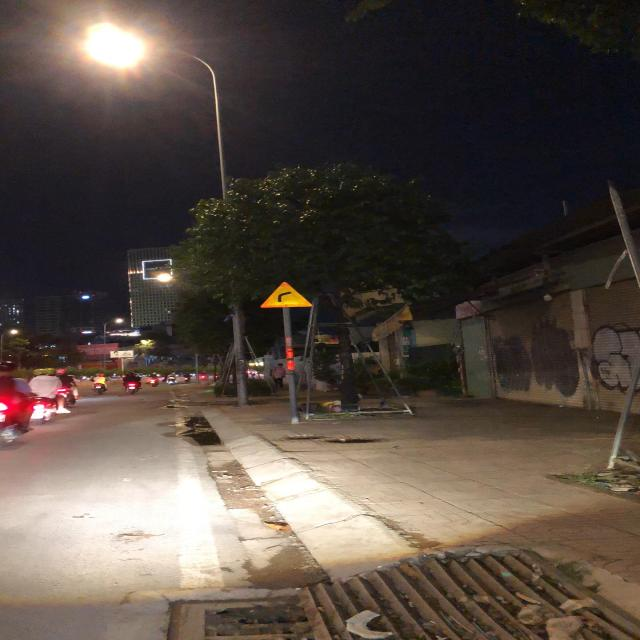Bien bao cho ngoat nguy hiem: (257, 280, 316, 308)
